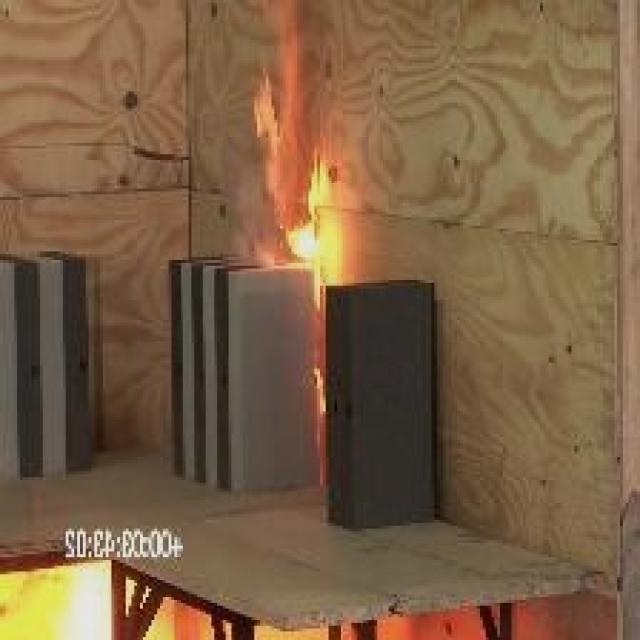fire: (252, 68, 357, 372)
